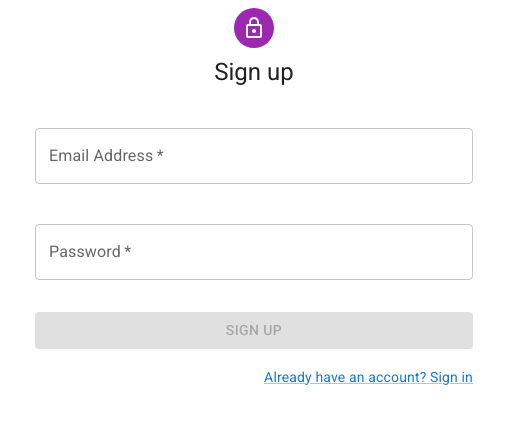
Scenario: Auth form › throws an error if email requirements are not met
Type "bad-email" into the field labelled "Email Address".
click(254, 156); type("bad-email")  # box [35,128,473,184]
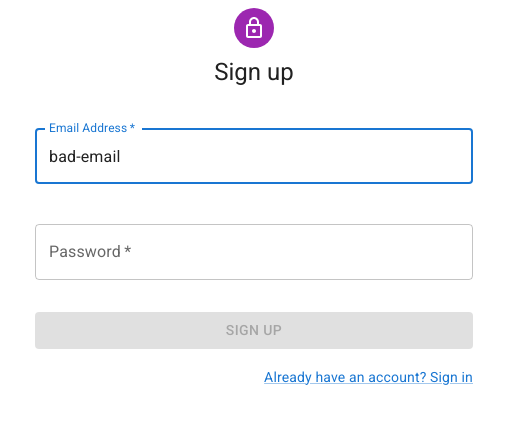
Click the password field labelled "Password *".
click(254, 252)  # box [35,224,473,280]
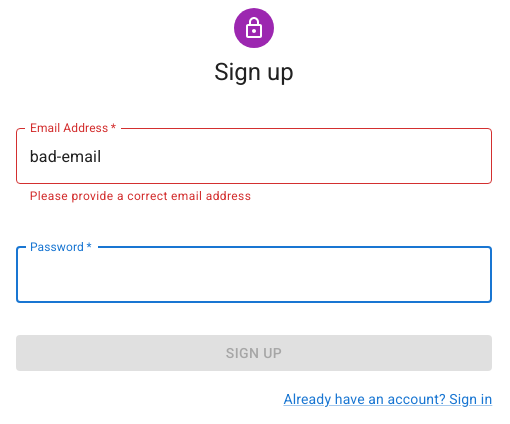
Expected: the text "Please provide a correct email address" is shown, [30,189,251,203]
